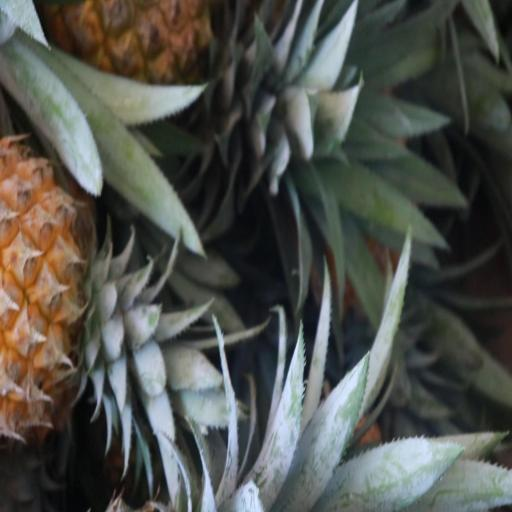Pineapple - v8 v1: (0, 137, 140, 424)
